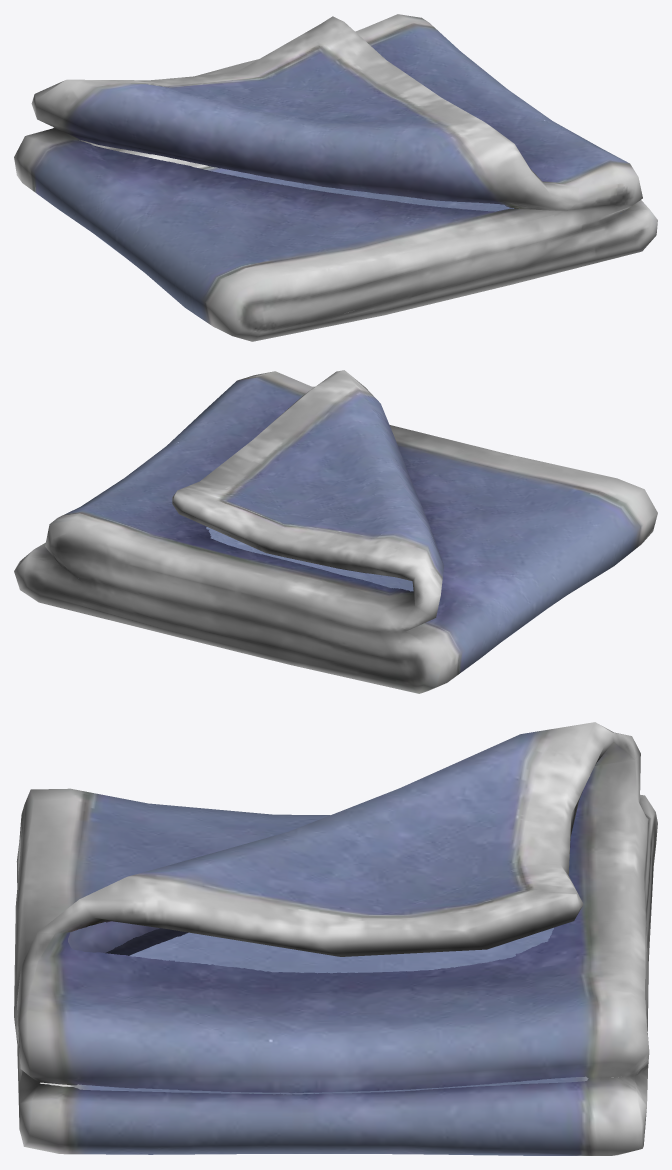
3 views of the same model, one above another, from view 1: azimuth 30°, elevation 25°; view 2: azimuth 150°, elevation 25°; view 3: azimuth 270°, elevation 25° (orthographic). The views are drawn at different scales.
Parts seen in each view (by area): view 1: SM_Ancestral_Cloth_01_LOD0; view 2: SM_Ancestral_Cloth_01_LOD0; view 3: SM_Ancestral_Cloth_01_LOD0.
Part boxes in pixels (left/top/right/bottom): SM_Ancestral_Cloth_01_LOD0: left=14, top=14, right=657, bottom=341; SM_Ancestral_Cloth_01_LOD0: left=14, top=370, right=657, bottom=693; SM_Ancestral_Cloth_01_LOD0: left=14, top=722, right=657, bottom=1155.
Bounding box in the file's own units: 0.5574 × 0.1525 × 0.4905.
1 material, 1 textured.
